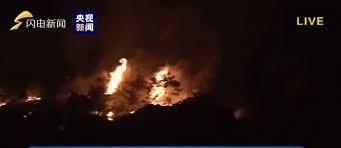fire: (144, 63, 177, 105), (103, 56, 128, 96), (24, 90, 41, 102)
